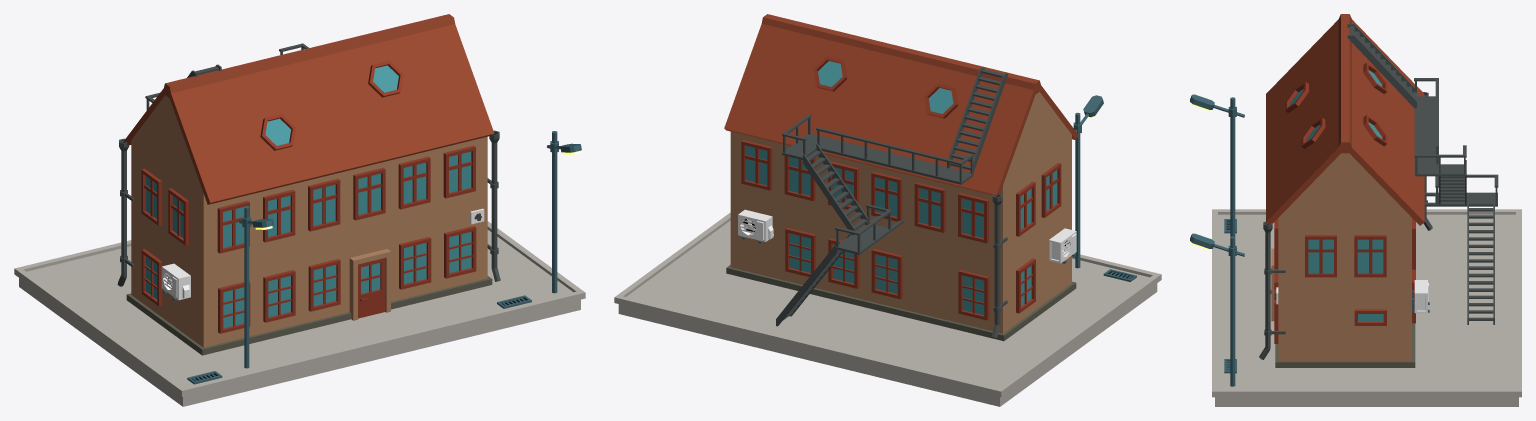
File: modern_building_04.glb
The picture shows the model from 3 angles, left to right: view 1: azimuth 30°, elevation 25°; view 2: azimuth 150°, elevation 25°; view 3: azimuth 270°, elevation 25°; orthographic projection. The views are drawn at different scales.
Parts seen in each view (by area): view 1: Object364_roof3_0, Plane099, Box15871, Box15875, Rectangle024, Box15874, Box15877, street_light_007_metal_0, street_light_006_metal_0, Object363_wall7_0, Box15876_Meat_0, Cylinder1719 (+29 smaller); view 2: Plane099, Object364_roof3_0, Box15871, Box15875, Rectangle024, Box15874, Plane095, Box15877, StraightStair014, StraightStair013, street_light_007_metal_0, StraightStair012 (+28 smaller); view 3: Plane099, Object364_roof3_0, Box15871, Box15875, Rectangle024, Box15877, Plane095, StraightStair012, StraightStair014, street_light_006_metal_0, street_light_007_metal_0, Box15874 (+14 smaller).
Boxes of the visible parts, box(x1,y1,x2,y2) form: Object364_roof3_0: box(124, 14, 494, 204); Plane099: box(19, 230, 580, 406); Box15871: box(131, 204, 487, 347); Box15875: box(131, 136, 487, 273); Rectangle024: box(14, 221, 585, 396); Box15874: box(126, 276, 492, 355); Box15877: box(131, 95, 203, 192); street_light_007_metal_0: box(239, 206, 273, 368); street_light_006_metal_0: box(547, 131, 581, 293); Object363_wall7_0: box(349, 249, 390, 320); Box15876_Meat_0: box(358, 258, 385, 318); Cylinder1719: box(489, 130, 500, 281); Plane099: box(618, 220, 1157, 406); Object364_roof3_0: box(724, 14, 1078, 196); Box15871: box(730, 196, 1071, 333); Box15875: box(730, 131, 1071, 262); Rectangle024: box(614, 212, 1161, 397); Box15874: box(726, 265, 1076, 341); Plane095: box(782, 133, 973, 184); Box15877: box(1003, 92, 1071, 185); StraightStair014: box(947, 66, 1007, 173); StraightStair013: box(803, 143, 868, 235); street_light_007_metal_0: box(1073, 95, 1103, 268); StraightStair012: box(776, 233, 851, 326); Plane099: box(1215, 214, 1518, 406); Object364_roof3_0: box(1266, 14, 1424, 225); Box15871: box(1278, 292, 1411, 360); Box15875: box(1278, 218, 1411, 292); Rectangle024: box(1212, 209, 1521, 397); Box15877: box(1279, 153, 1411, 217); Plane095: box(1414, 96, 1466, 176); StraightStair012: box(1467, 201, 1494, 324); StraightStair014: box(1347, 24, 1416, 108); street_light_006_metal_0: box(1190, 233, 1244, 386); street_light_007_metal_0: box(1190, 94, 1244, 236); Box15874: box(1275, 323, 1415, 367).
Bounding box in the file's own units: 14.2 × 8.76 × 10.93.
